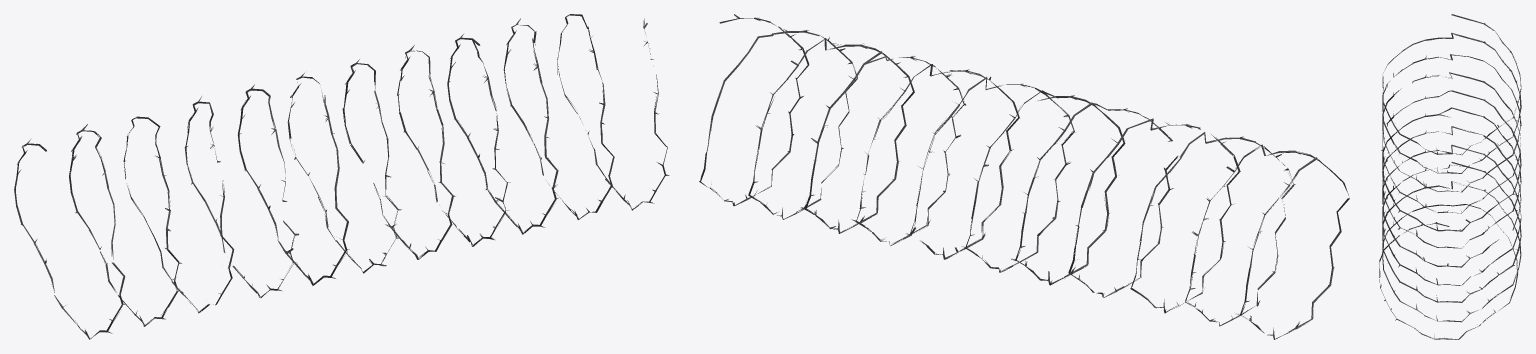
Rendered from wire_coil.glb.
3 renders of one model, left to right at view 1: azimuth 30°, elevation 25°; view 2: azimuth 150°, elevation 25°; view 3: azimuth 270°, elevation 25°, orthographic. The views are drawn at different scales.
Parts seen in each view (by area): view 1: barbed wire 03; view 2: barbed wire 03; view 3: barbed wire 03.
Boxes of the visible parts, box(x1,y1,x2,y2) form: barbed wire 03: box(14, 14, 669, 339); barbed wire 03: box(699, 14, 1349, 339); barbed wire 03: box(1379, 14, 1521, 339).
Size of the model in its own units: 4.03 by 1.21 by 1.2.
Materials: 1 (1 with a texture image).
